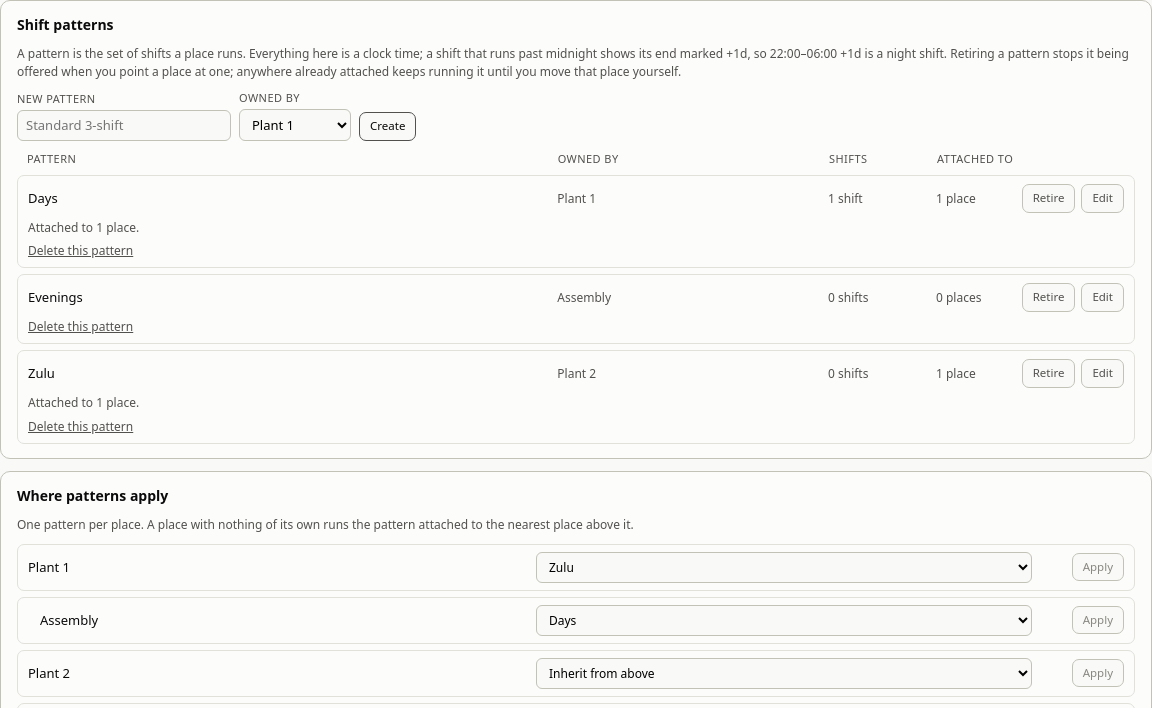
it: ShiftsPanel — nothing is left holding an id the filter removed › S13c ⭐ ONE DOOR: the name is plain text, and Edit is the sole opener
Click the button "Edit" in the row of "Zulu" at {"x": 1103, "y": 374}, box top-left (1081, 360), bottom-right (1124, 388)
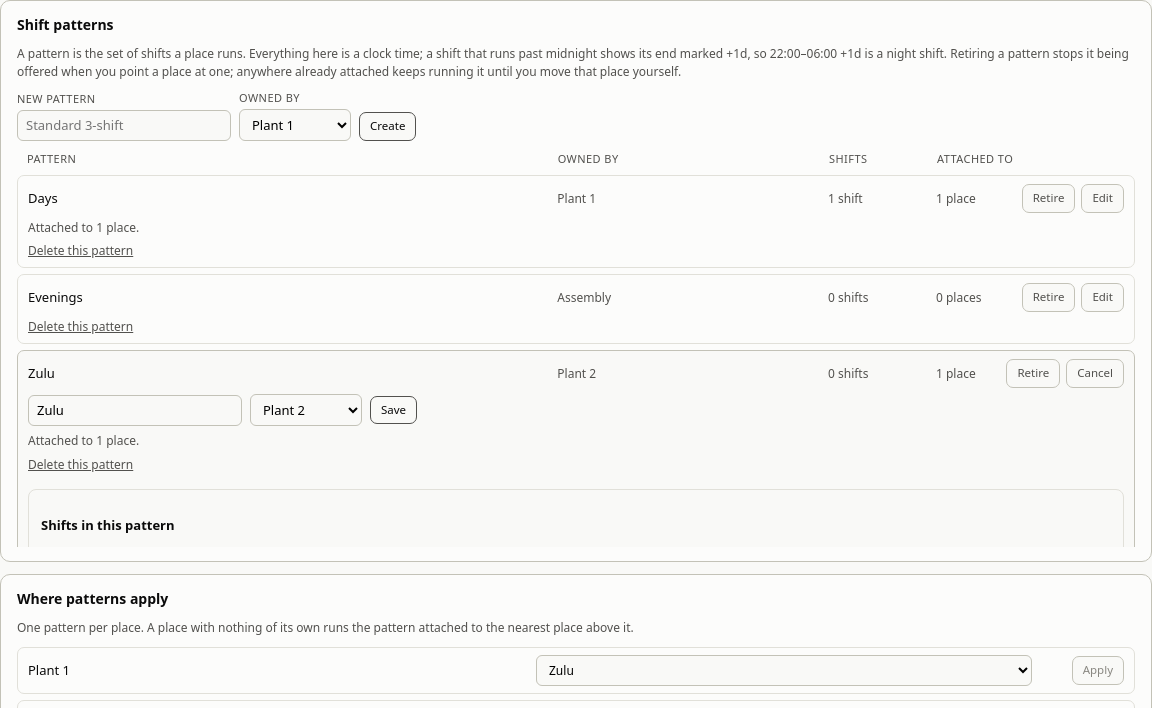
Expected: the heading "Shifts in this pattern" is shown, top-left (41, 516), bottom-right (175, 534)
Expected: the button "Cancel" is expanded, top-left (1066, 360), bottom-right (1124, 388)
